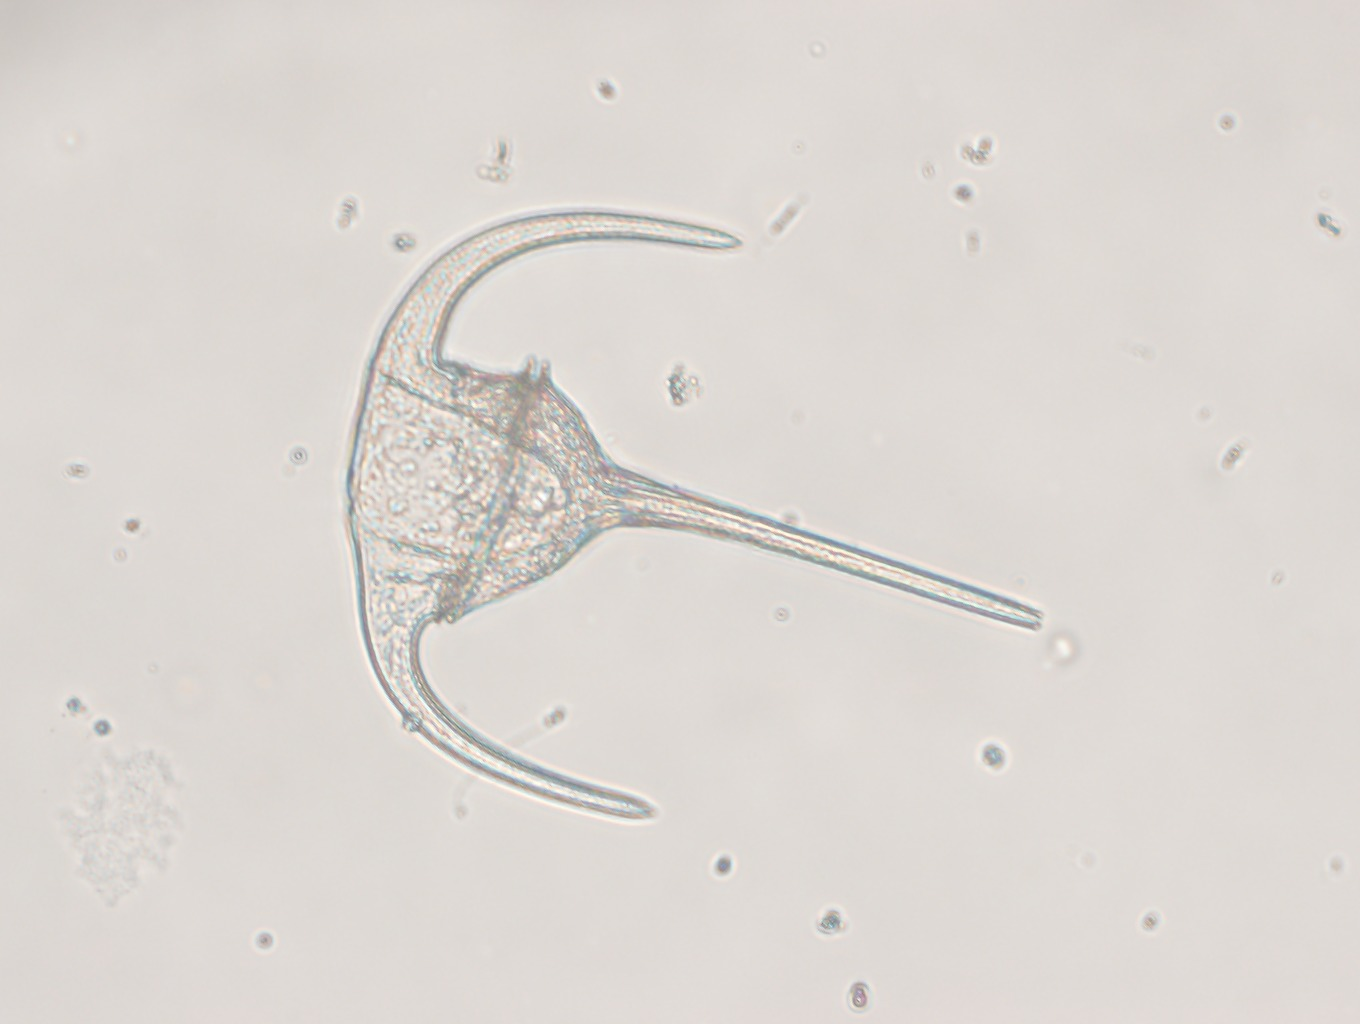ceratium tripos: (346, 209, 1042, 825)
